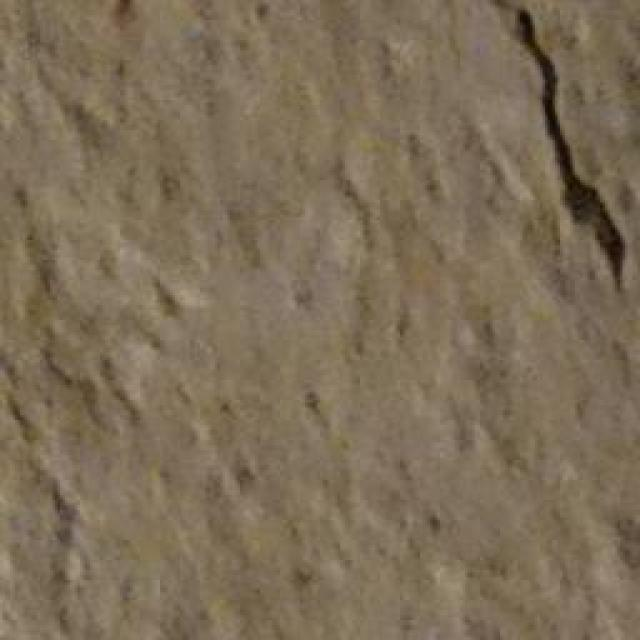Diagonal: (481, 0, 640, 289)
Rippled: (13, 3, 439, 640)
